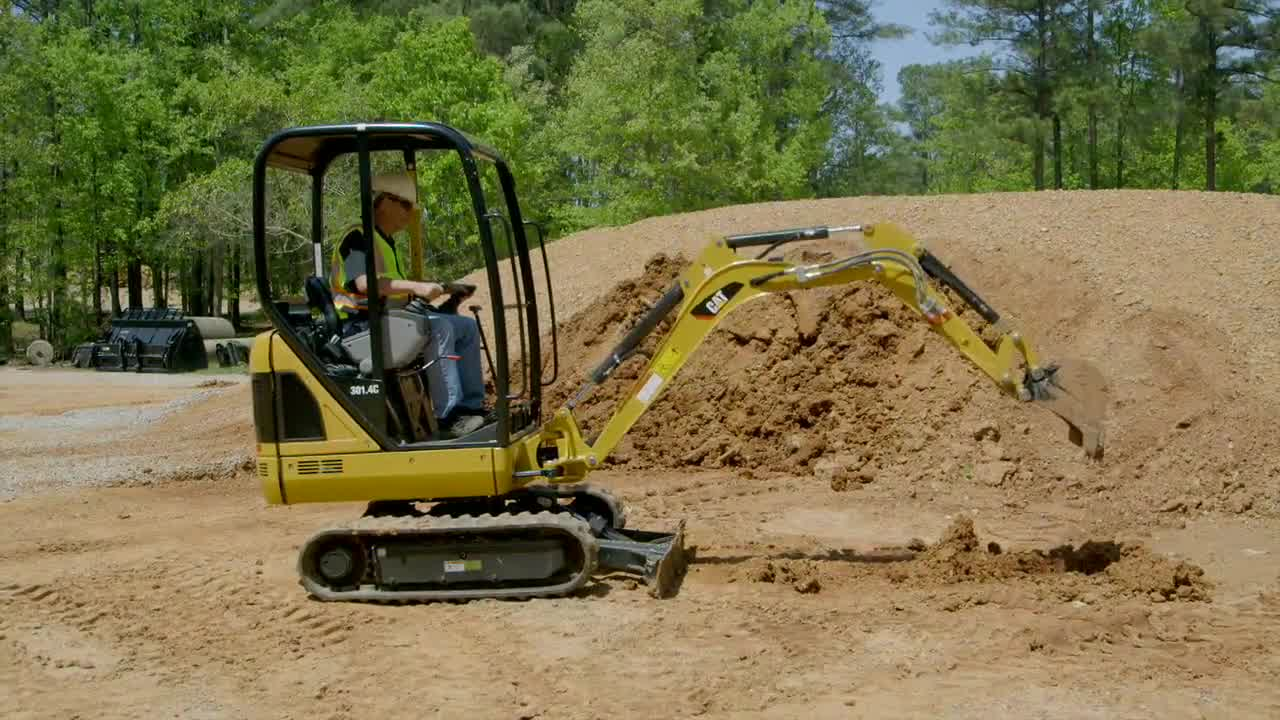attachment-bucket: (1026, 350, 1116, 466)
cabin: (244, 123, 562, 498)
forearm: (862, 225, 1028, 398)
upperarm: (575, 259, 880, 477)
wheelbase: (287, 486, 623, 612)
